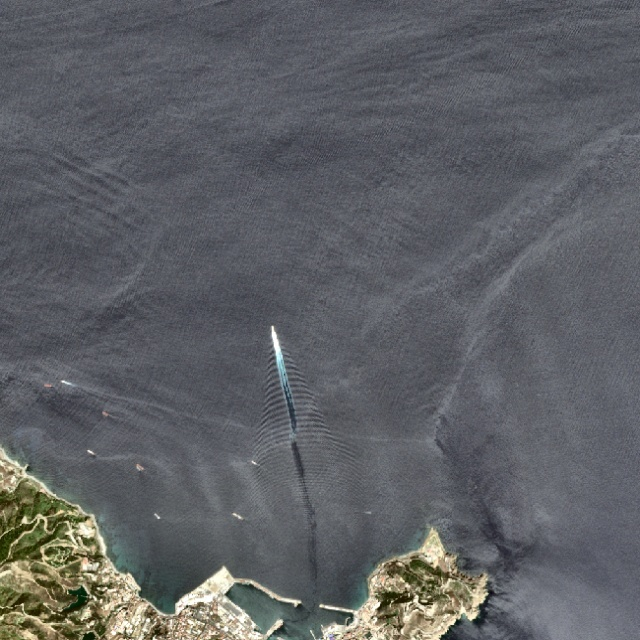wake: (226, 312, 346, 473)
